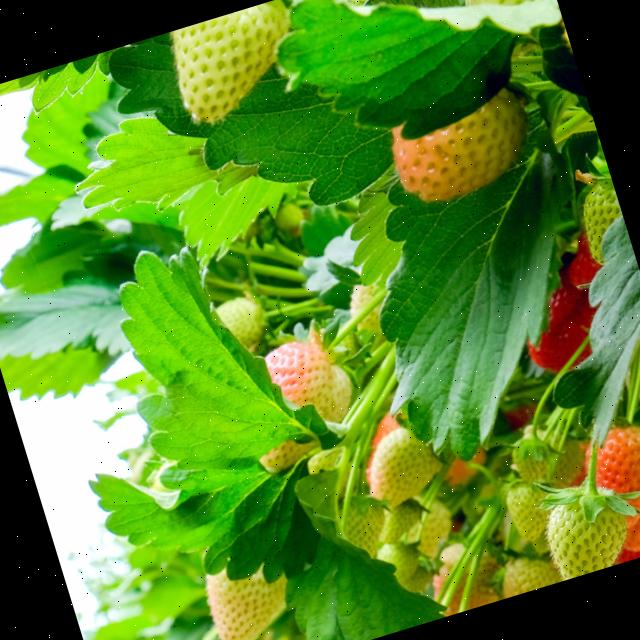Ripe Strawberry: (513, 276, 617, 378), (560, 231, 608, 291), (616, 505, 640, 559)
